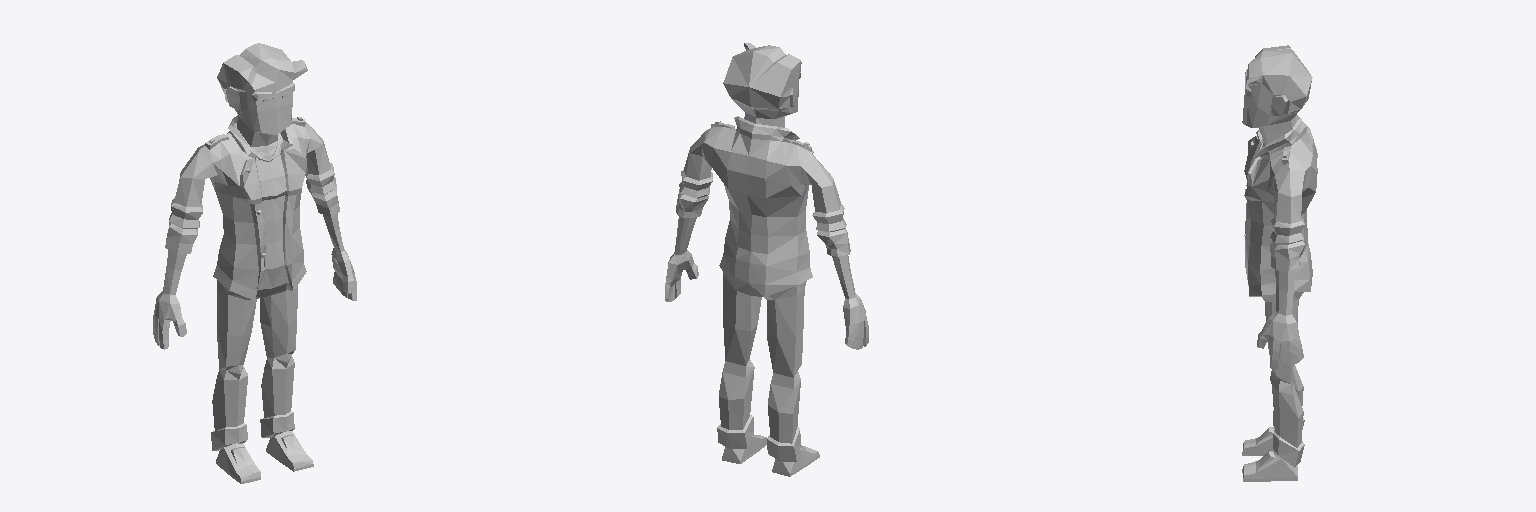
The model's file is man_jacket_standing.obj.
The picture shows the model from 3 angles: view 1: azimuth 30°, elevation 25°; view 2: azimuth 150°, elevation 25°; view 3: azimuth 270°, elevation 25°; orthographic projection.
Visible parts, largest first — view 1: Character_Male_Jacket_Mesh.040; view 2: Character_Male_Jacket_Mesh.040; view 3: Character_Male_Jacket_Mesh.040.
Part boxes in pixels (left/top/right/bottom): Character_Male_Jacket_Mesh.040: left=153, top=43, right=356, bottom=483; Character_Male_Jacket_Mesh.040: left=665, top=43, right=868, bottom=476; Character_Male_Jacket_Mesh.040: left=1242, top=45, right=1317, bottom=481.
Size of the model in its own units: 0.9045 by 1.83 by 0.3019.